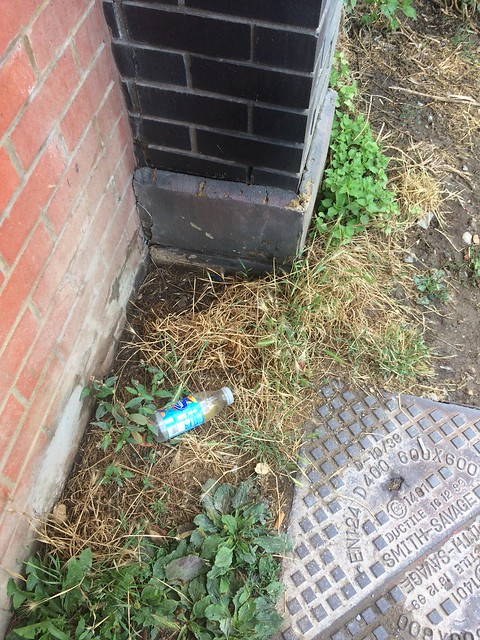bottle: (148, 382, 238, 444)
